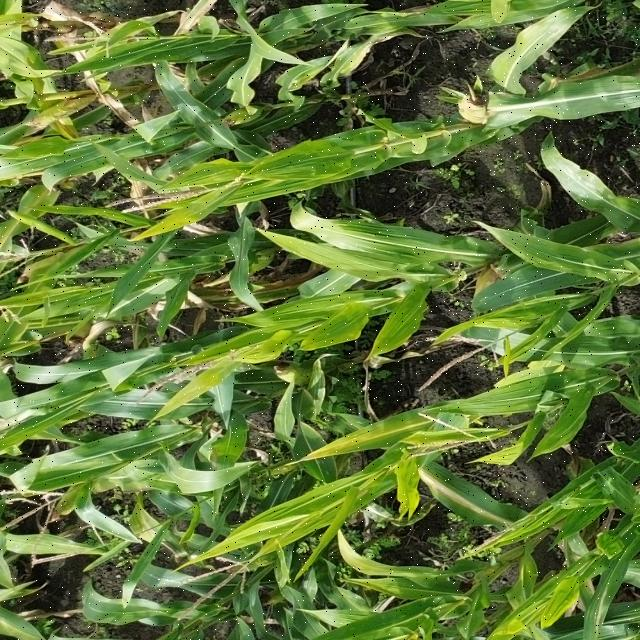gray-leaf-spot: (334, 206, 422, 290)
northern-leaf-blight: (414, 473, 540, 546), (113, 494, 195, 564)
